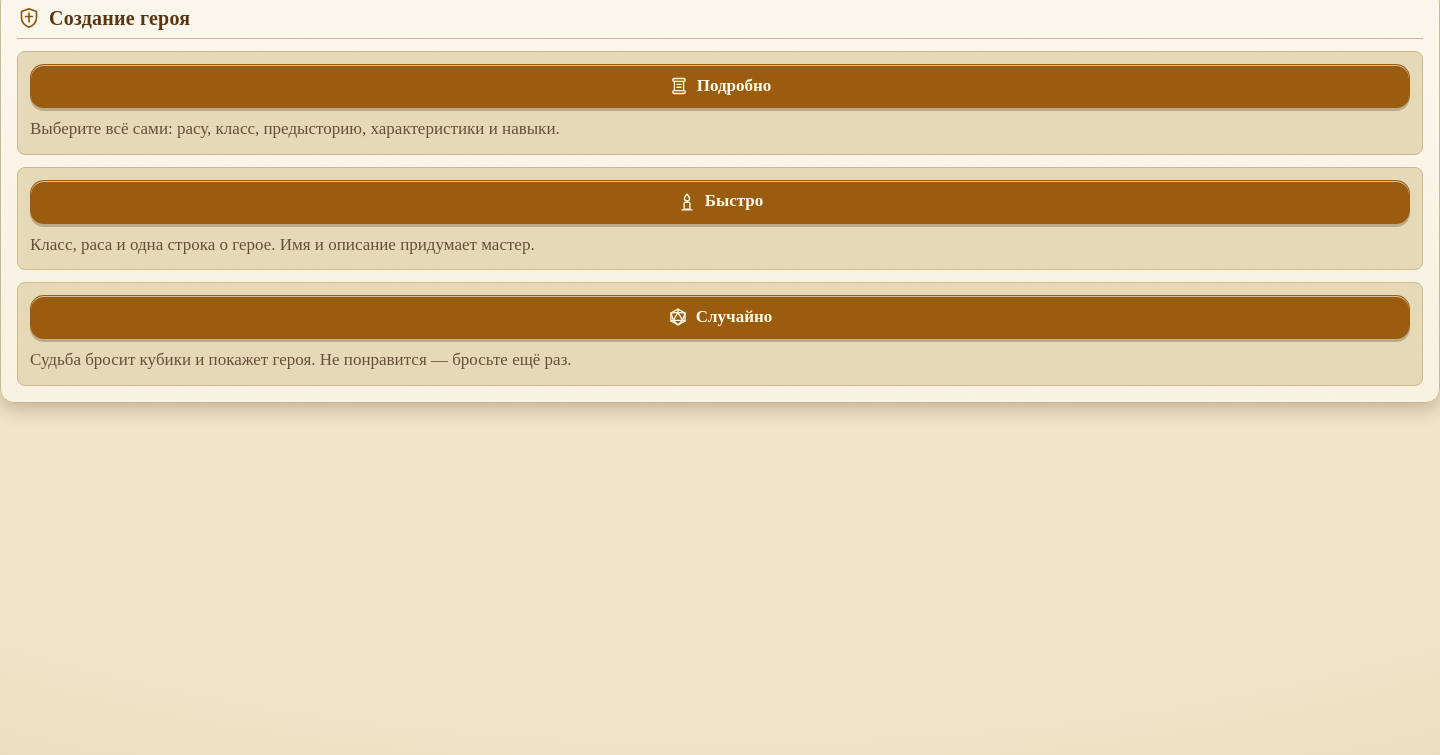
выбор способа › правила создания запрашиваются один раз, с токеном и без query
This screenshot has width=1440, height=755.
Check: the heading "Создание героя" is shown, box [49,6,190,30]
Click the button "Быстро" at point(720, 202), box [30,180,1410,224]
(page scrolled)
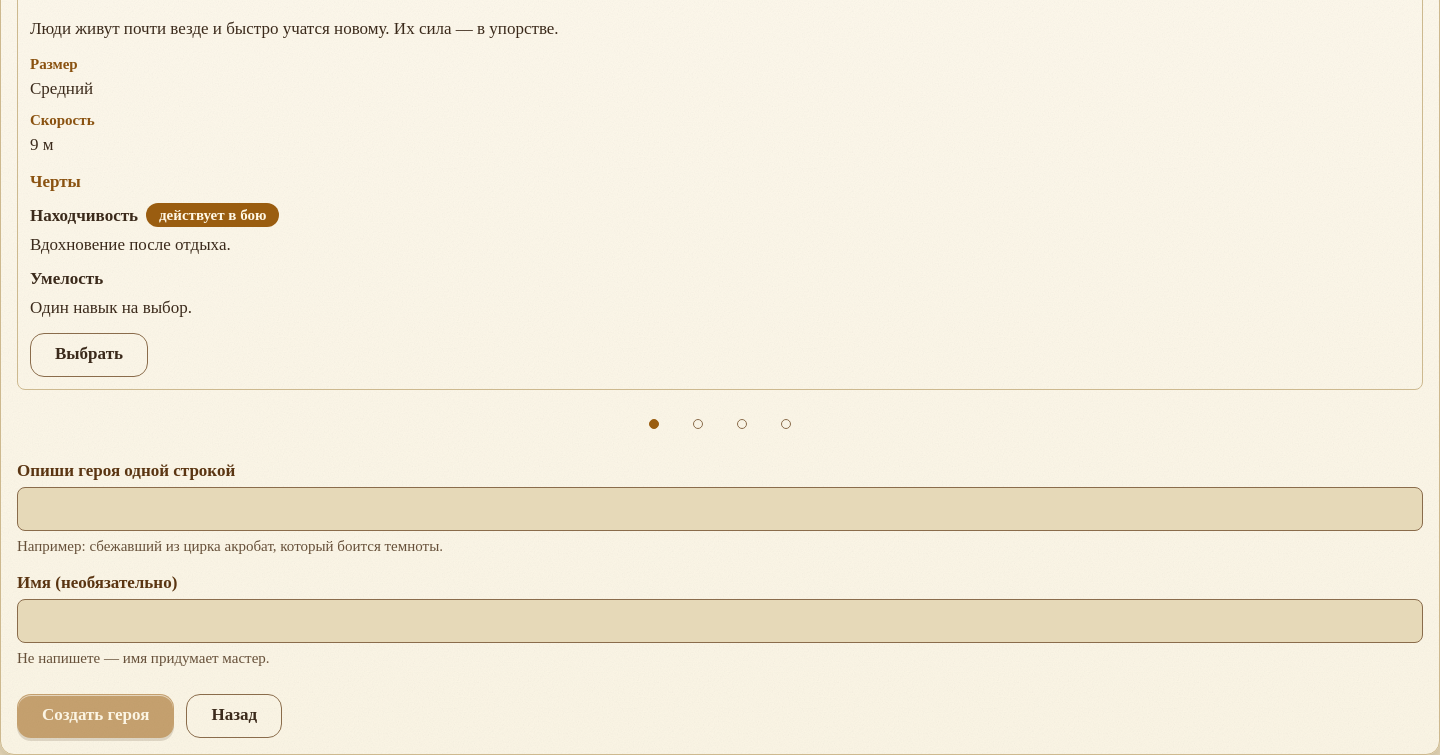
Click the button "Назад" at point(234, 716), box [186,694,282,738]
(page scrolled)
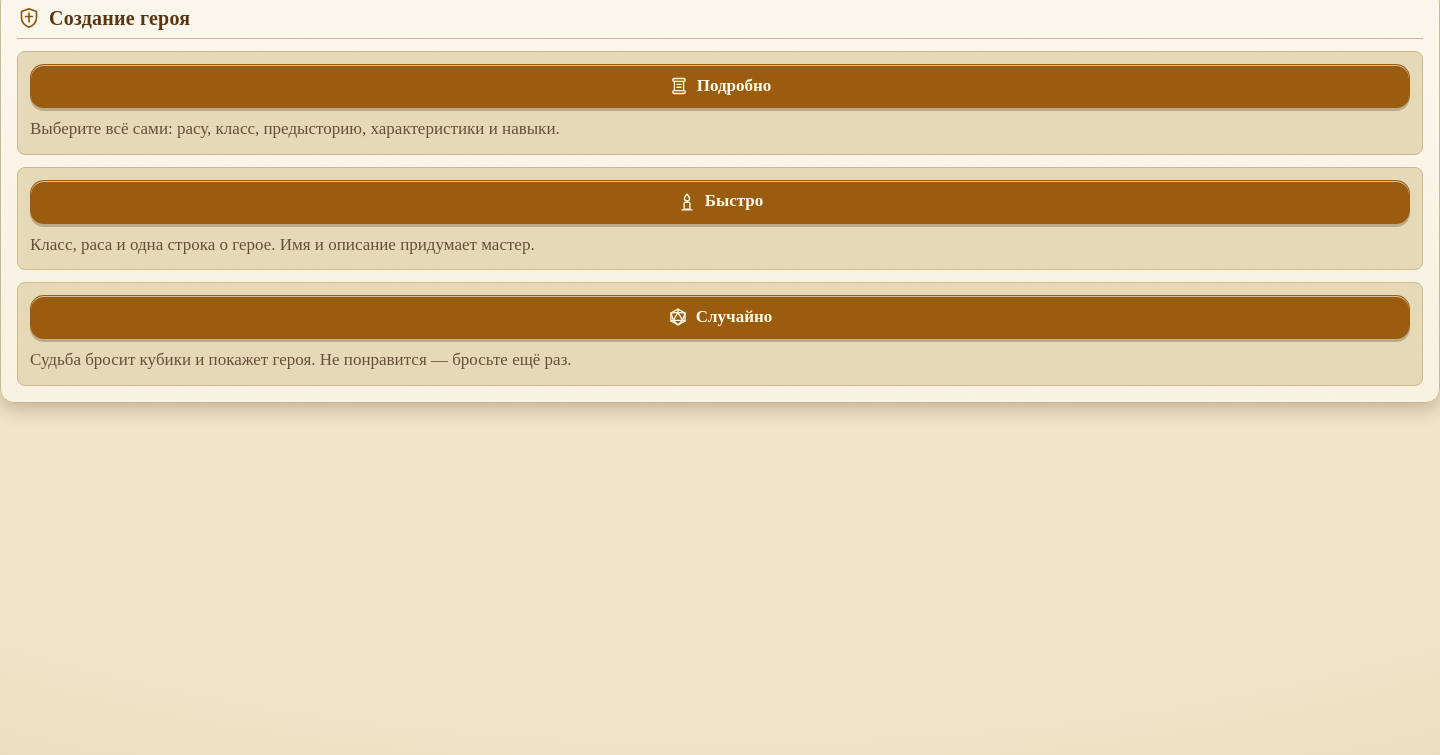
Click the button "Случайно" at point(720, 317), box [30,295,1410,339]
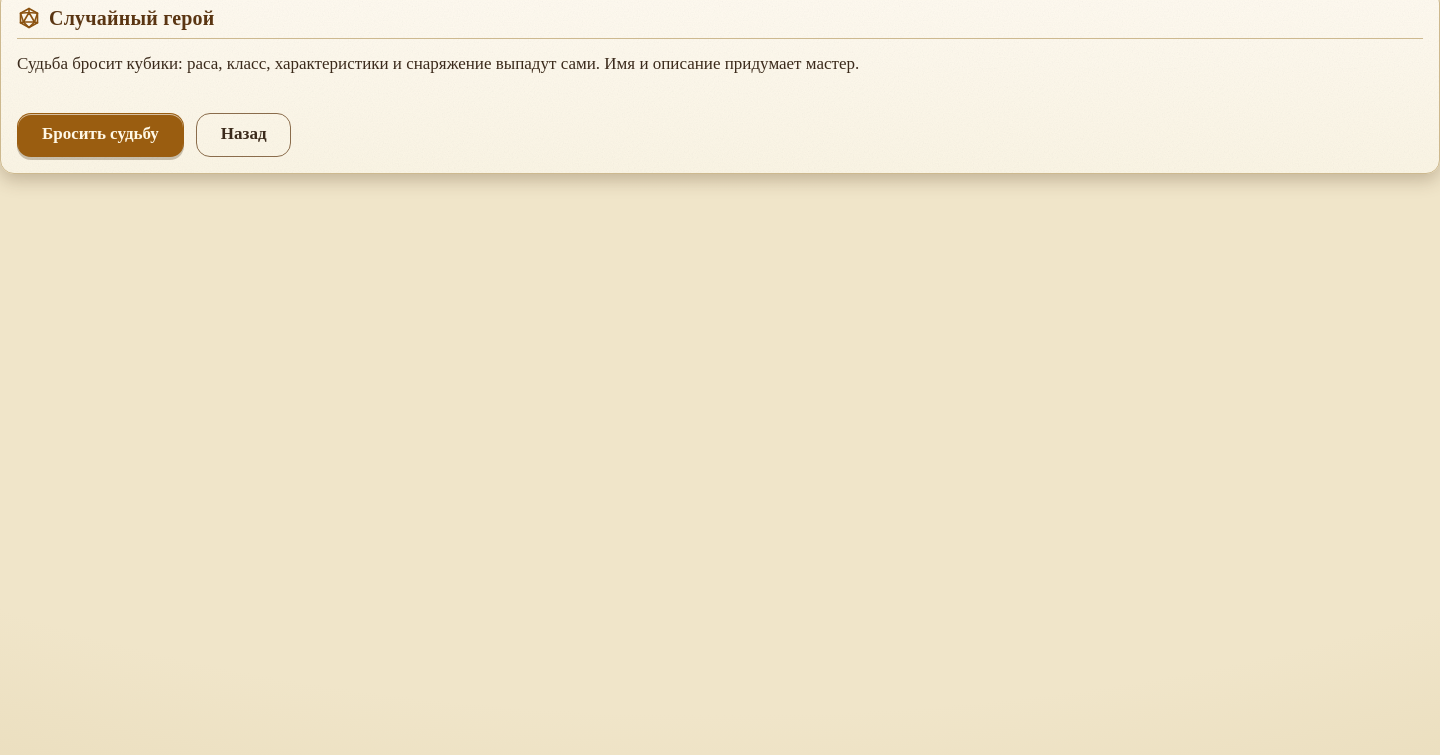
Check: the heading "Случайный герой" is shown, box [49,6,214,30]
